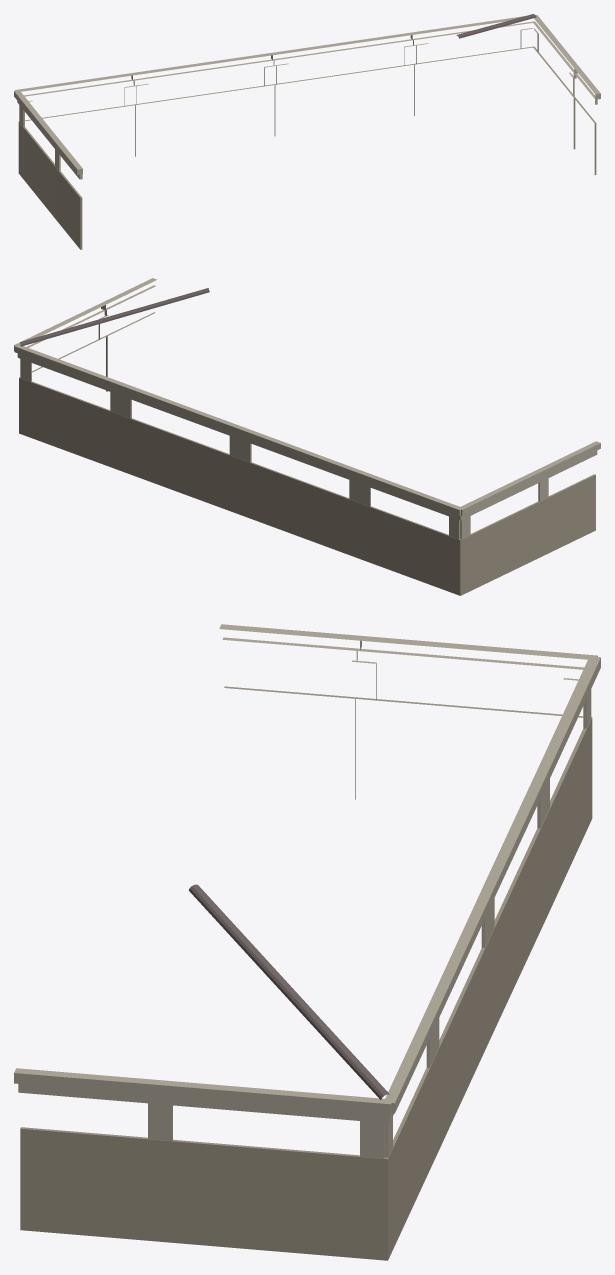
The picture shows the model from 3 angles, top to bottom: view 1: azimuth 30°, elevation 25°; view 2: azimuth 150°, elevation 25°; view 3: azimuth 270°, elevation 25°; orthographic projection. The views are drawn at different scales.
Parts seen in each view (by area): view 1: detail; view 2: detail; view 3: detail.
Boxes of the visible parts, x1,y1,x2,y2 form: detail: (14,14,600,249); detail: (14,278,600,595); detail: (14,624,600,1260).
Size of the model in its own units: 27.44 by 6.78 by 14.18.
